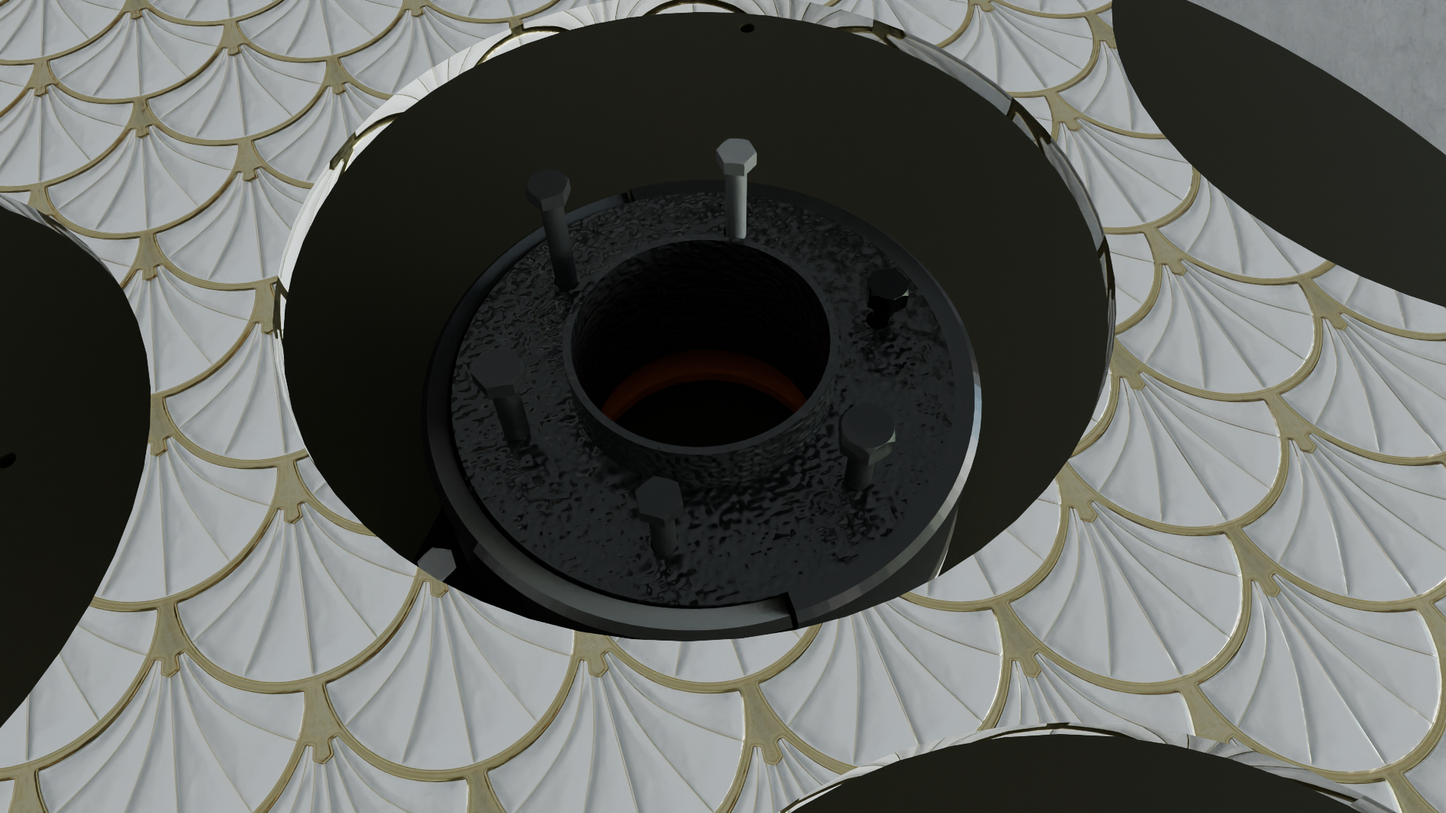bolt: (840, 403, 895, 455), (471, 348, 524, 389), (635, 476, 683, 519), (868, 269, 908, 305), (525, 169, 569, 200), (716, 139, 757, 166)
